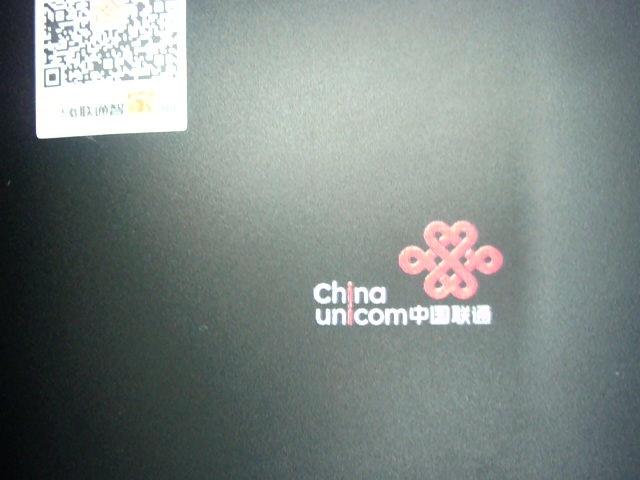AC_ChinaUnicom: (307, 215, 513, 343)
